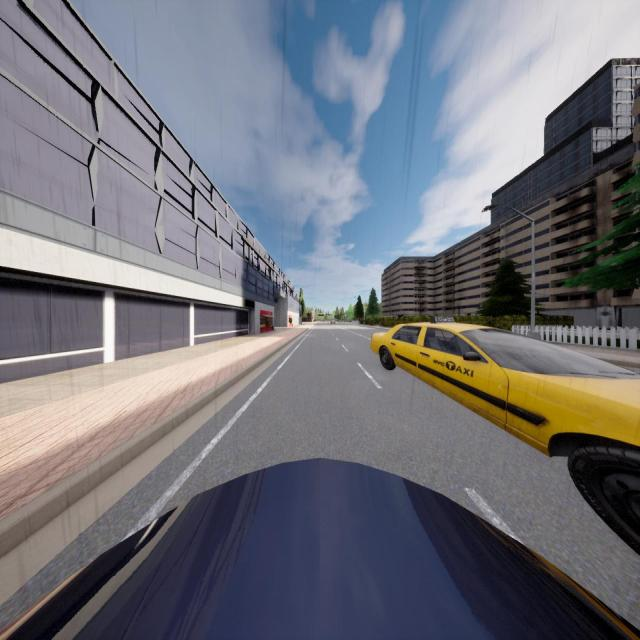Vehicle: (0, 459, 640, 640), (371, 314, 640, 552), (330, 318, 336, 324)
